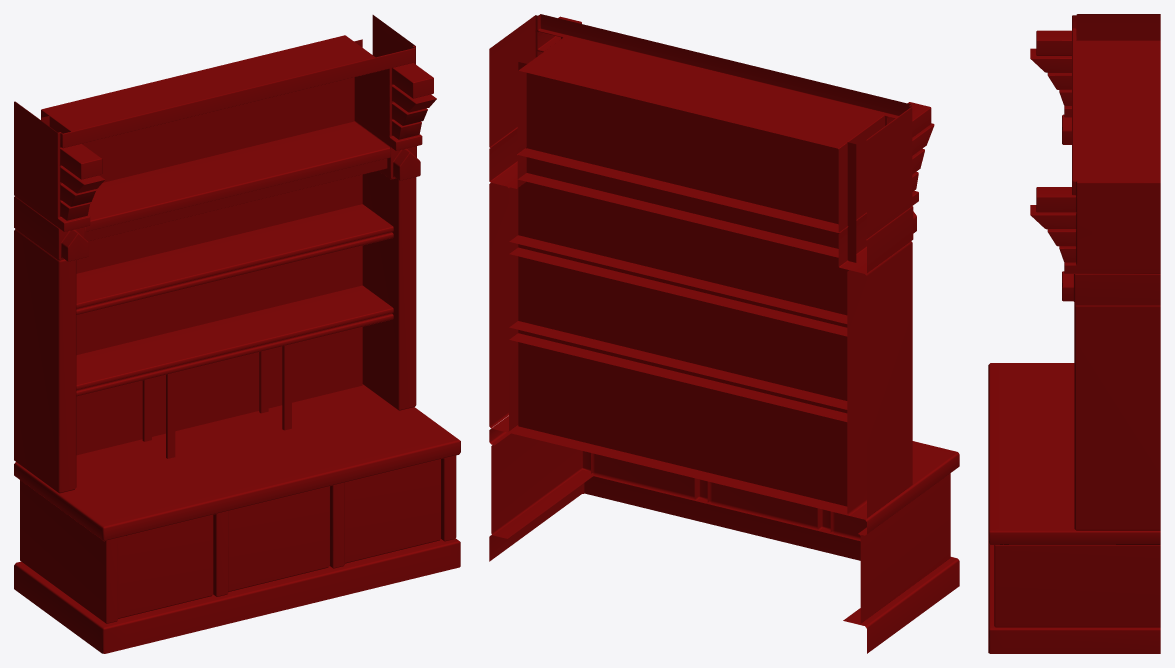
Rendered from HalloweenRoomA_BookcaseA.fbx.
3 views of the same model, side by side, from view 1: azimuth 30°, elevation 25°; view 2: azimuth 150°, elevation 25°; view 3: azimuth 270°, elevation 25° (orthographic). The views are drawn at different scales.
Parts seen in each view (by area): view 1: HalloweenRoomA_BookcaseA; view 2: HalloweenRoomA_BookcaseA; view 3: HalloweenRoomA_BookcaseA.
Boxes of the visible parts, x1=… form: HalloweenRoomA_BookcaseA: x1=14, y1=15, x2=460, y2=653; HalloweenRoomA_BookcaseA: x1=489, y1=14, x2=959, y2=653; HalloweenRoomA_BookcaseA: x1=988, y1=14, x2=1160, y2=653.
Bounding box in the file's own units: 210 × 273 × 90.35.
